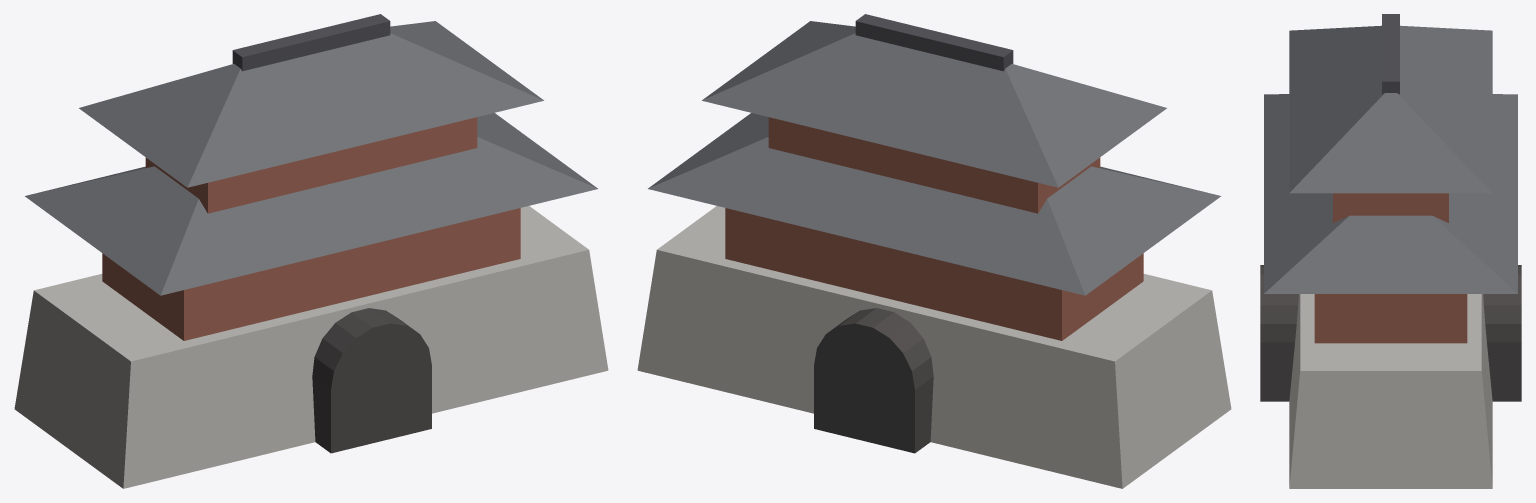
3 views of the same model, side by side, from view 1: azimuth 30°, elevation 25°; view 2: azimuth 150°, elevation 25°; view 3: azimuth 270°, elevation 25° (orthographic). The views are drawn at different scales.
Visible parts, largest first — view 1: part0, part3, part5, part2, part1, part4, part6; view 2: part0, part3, part5, part2, part1, part4, part6; view 3: part5, part0, part3, part1, part2, part4, part6.
Boxes of the visible parts, bbox=[...] form: part0: bbox=[14, 206, 608, 488]; part3: bbox=[25, 113, 597, 295]; part5: bbox=[79, 21, 543, 187]; part2: bbox=[102, 208, 520, 340]; part1: bbox=[312, 308, 431, 453]; part4: bbox=[145, 117, 477, 213]; part6: bbox=[232, 14, 390, 71]; part0: bbox=[637, 206, 1231, 488]; part3: bbox=[648, 113, 1220, 295]; part5: bbox=[702, 21, 1166, 187]; part2: bbox=[725, 208, 1143, 340]; part1: bbox=[814, 308, 933, 453]; part4: bbox=[768, 117, 1100, 213]; part6: bbox=[855, 14, 1013, 71]; part5: bbox=[1289, 25, 1492, 193]; part0: bbox=[1289, 294, 1492, 488]; part3: bbox=[1264, 94, 1517, 293]; part1: bbox=[1260, 265, 1521, 401]; part2: bbox=[1314, 294, 1467, 343]; part4: bbox=[1333, 193, 1448, 222]; part6: bbox=[1382, 14, 1399, 94].
Size of the model in its own units: 6.05 by 4.22 by 3.02.
